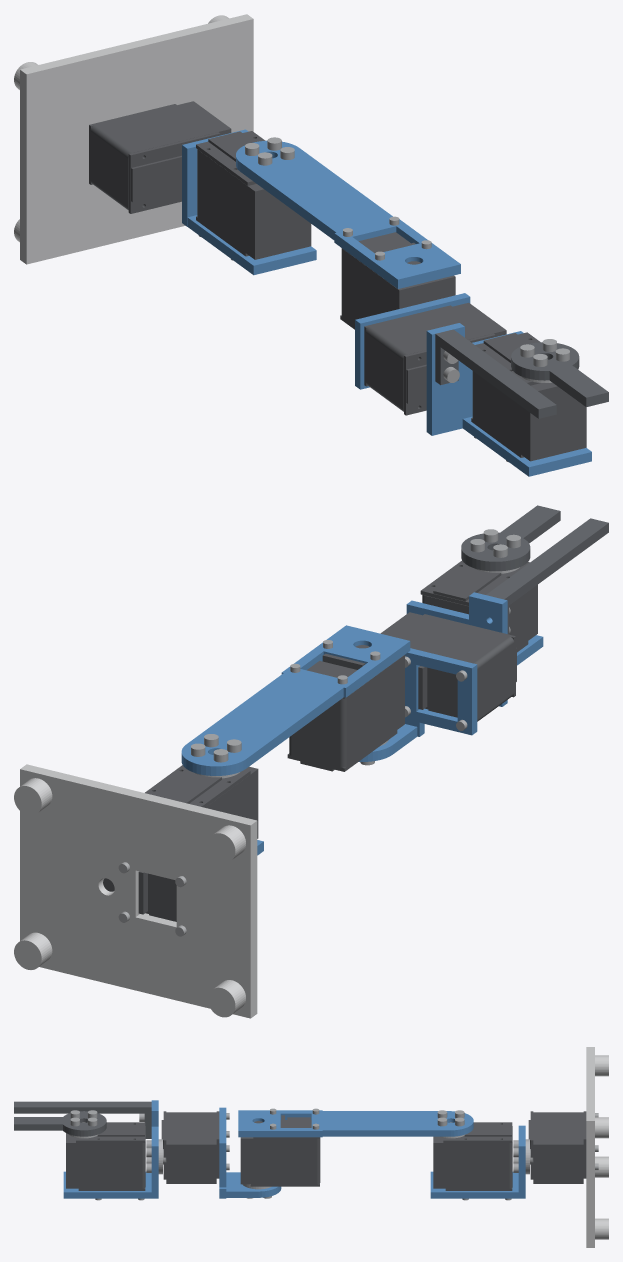
The picture shows the model from 3 angles, top to bottom: view 1: azimuth 30°, elevation 25°; view 2: azimuth 150°, elevation 25°; view 3: azimuth 270°, elevation 25°; orthographic projection. The views are drawn at different scales.
Visible parts, largest first — view 1: geometry_5, geometry_27, geometry_0, geometry_15, geometry_48, geometry_37, geometry_51, geometry_26, geometry_52, geometry_16, geometry_58, geometry_38; view 2: geometry_5, geometry_27, geometry_26, geometry_37, geometry_38, geometry_48, geometry_15, geometry_52, geometry_58, geometry_51, geometry_0; view 3: geometry_27, geometry_48, geometry_15, geometry_26, geometry_0, geometry_37, geometry_5, geometry_52, geometry_51, geometry_16, geometry_38, geometry_58.
Part boxes in pixels (bbox=[...]): geometry_5: bbox=[14, 14, 253, 264]; geometry_27: bbox=[236, 140, 460, 288]; geometry_0: bbox=[89, 101, 231, 213]; geometry_15: bbox=[196, 131, 311, 259]; geometry_48: bbox=[471, 332, 586, 461]; geometry_37: bbox=[364, 302, 506, 415]; geometry_51: bbox=[426, 323, 591, 476]; geometry_26: bbox=[340, 232, 455, 329]; geometry_52: bbox=[435, 329, 556, 418]; geometry_16: bbox=[182, 129, 316, 275]; geometry_58: bbox=[511, 342, 608, 407]; geometry_38: bbox=[355, 293, 470, 389]; geometry_5: bbox=[14, 764, 257, 1018]; geometry_27: bbox=[181, 625, 410, 775]; geometry_26: bbox=[287, 645, 404, 771]; geometry_37: bbox=[380, 612, 516, 721]; geometry_38: bbox=[359, 648, 477, 761]; geometry_48: bbox=[420, 560, 537, 652]; geometry_15: bbox=[145, 765, 258, 838]; geometry_52: bbox=[486, 518, 608, 634]; geometry_58: bbox=[461, 505, 560, 571]; geometry_51: bbox=[406, 592, 543, 706]; geometry_0: bbox=[103, 871, 176, 921]; geometry_27: bbox=[238, 1110, 473, 1137]; geometry_48: bbox=[66, 1122, 145, 1190]; geometry_15: bbox=[433, 1122, 512, 1190]; geometry_26: bbox=[240, 1115, 320, 1186]; geometry_0: bbox=[528, 1111, 586, 1183]; geometry_37: bbox=[161, 1111, 219, 1183]; geometry_5: bbox=[586, 1047, 608, 1247]; geometry_52: bbox=[14, 1101, 151, 1138]; geometry_51: bbox=[63, 1100, 158, 1198]; geometry_16: bbox=[430, 1125, 525, 1198]; geometry_38: bbox=[219, 1107, 281, 1198]; geometry_58: bbox=[14, 1111, 106, 1136].
Size of the model in its own units: 0.1 by 0.08 by 0.3402.
